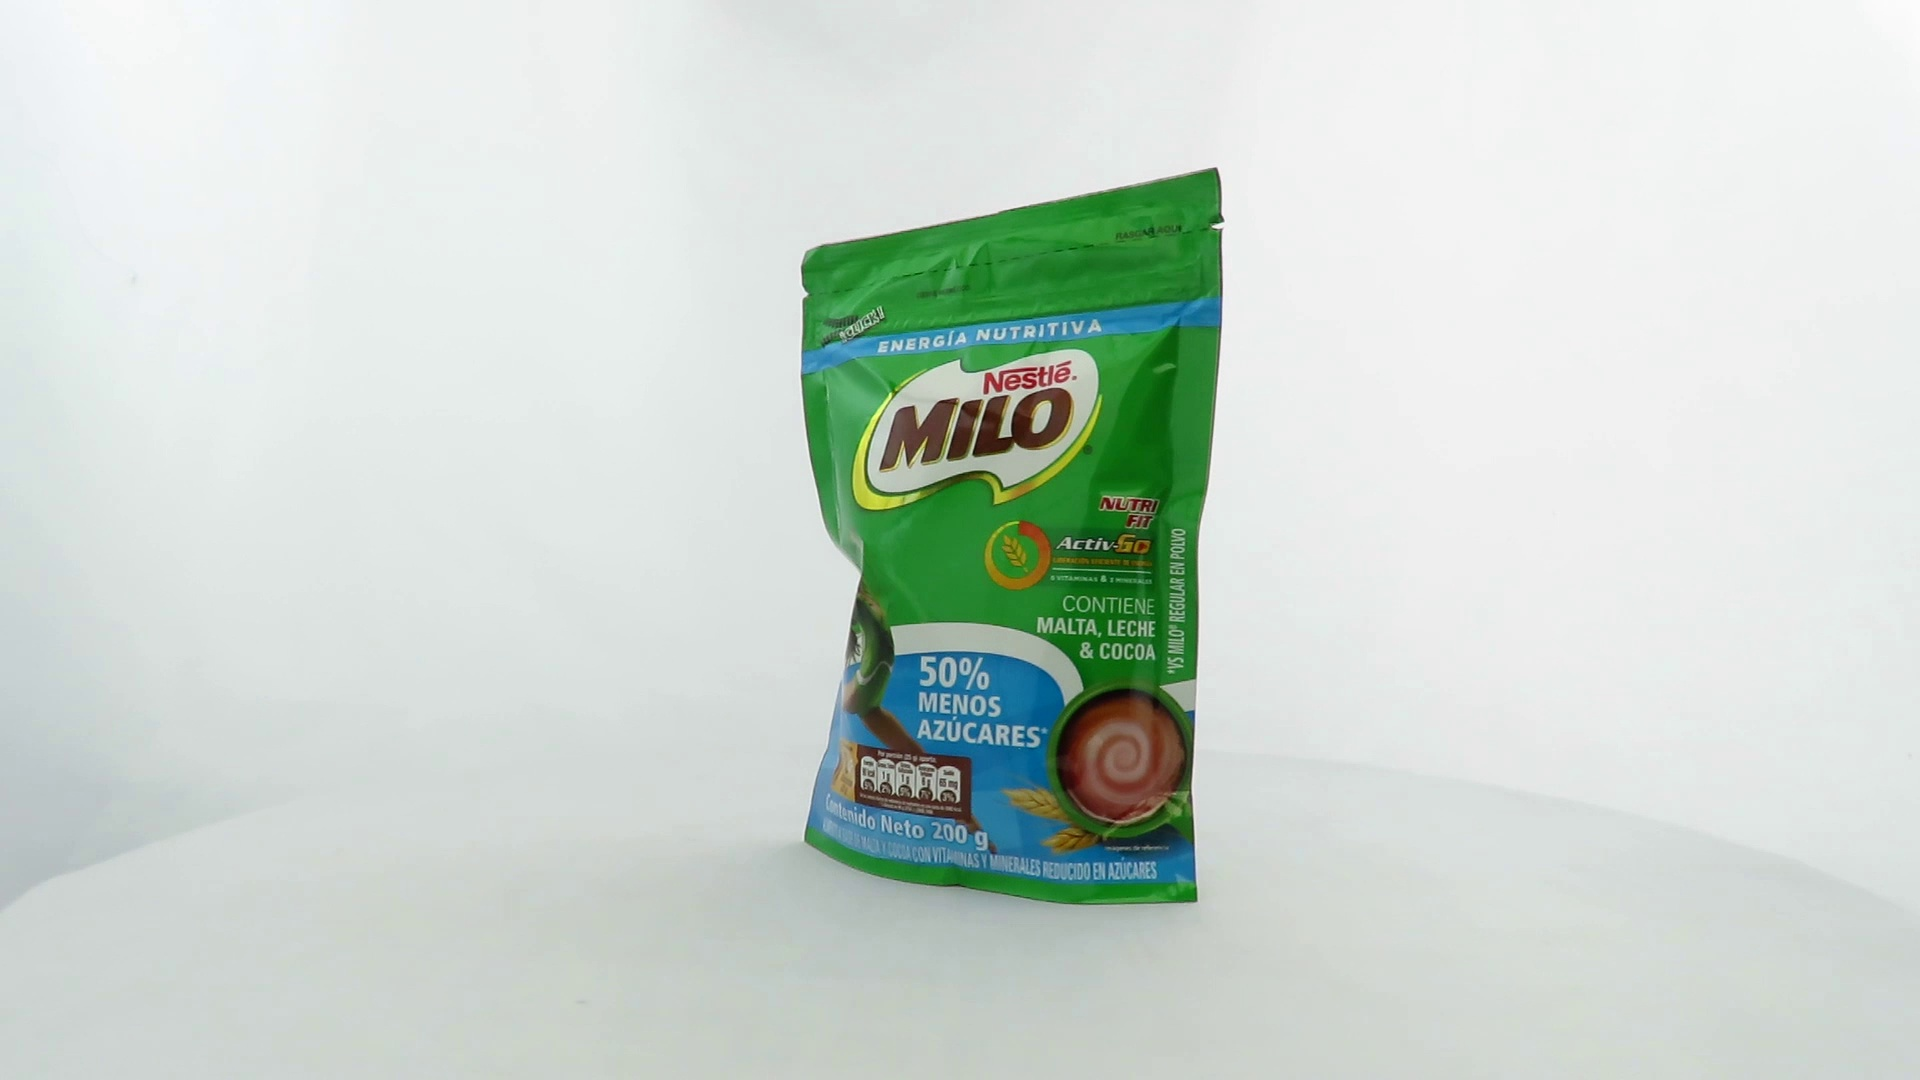COL0170205DYP20000: (795, 162, 1232, 911)
